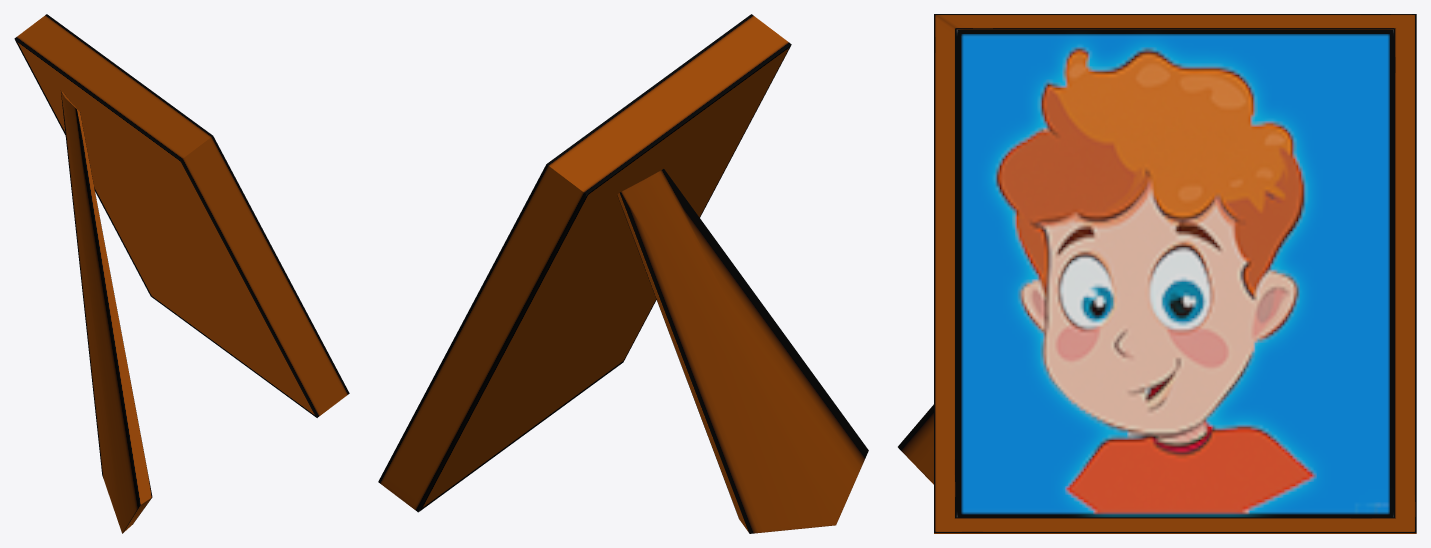
File: PhotoFrameKevin.fbx
3 renders of one model, left to right at view 1: azimuth 30°, elevation 25°; view 2: azimuth 150°, elevation 25°; view 3: azimuth 270°, elevation 25°, orthographic. The views are drawn at different scales.
Parts seen in each view (by area): view 1: PhotoFrameKevin; view 2: PhotoFrameKevin; view 3: PhotoFrameKevin.
Boxes of the visible parts, x1=… form: PhotoFrameKevin: x1=14, y1=14, x2=349, y2=533; PhotoFrameKevin: x1=378, y1=14, x2=868, y2=533; PhotoFrameKevin: x1=898, y1=14, x2=1416, y2=533.
Bounding box in the file's own units: 1.68 × 2.82 × 2.36.
